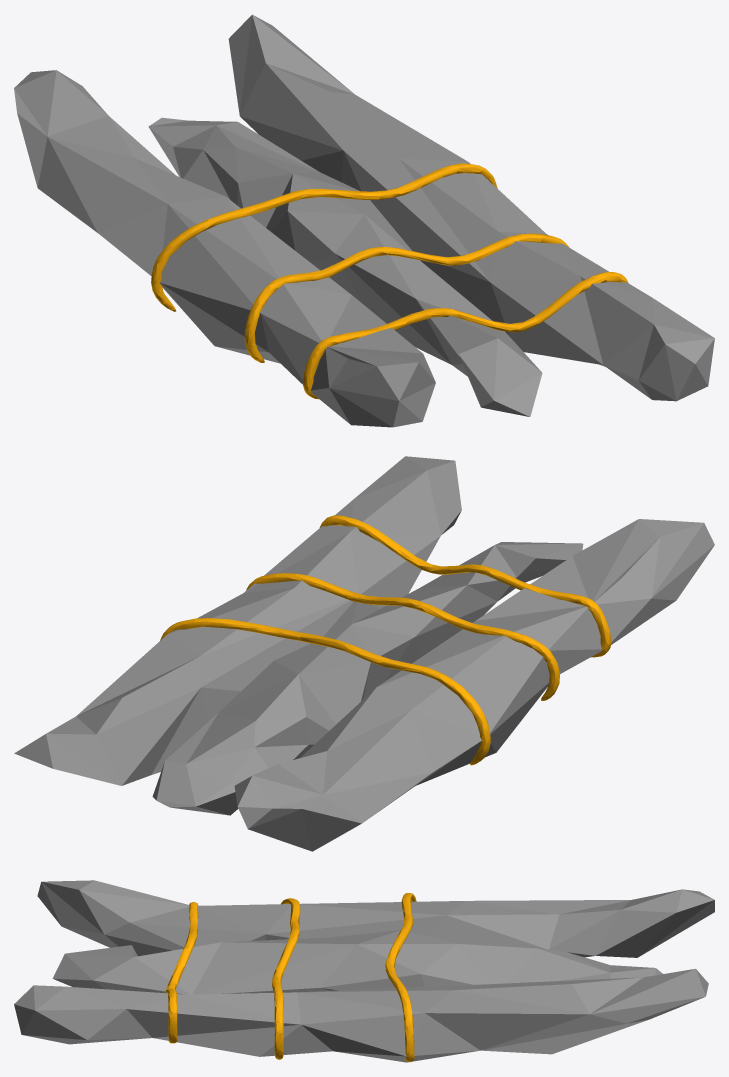
File: Raft.fbx
The picture shows the model from 3 angles, top to bottom: view 1: azimuth 30°, elevation 25°; view 2: azimuth 150°, elevation 25°; view 3: azimuth 270°, elevation 25°; orthographic projection. The views are drawn at different scales.
Parts seen in each view (by area): view 1: Cylin1, Cylinder00, Cylin, Box003, Box002, Box001; view 2: Cylinder00, Cylin1, Cylin, Box003, Box002, Box001; view 3: Cylin1, Cylinder00, Cylin, Box003, Box002, Box001.
Boxes of the visible parts, x1,y1,x2,y2 form: Cylin1: [228, 14, 714, 401]; Cylinder00: [14, 70, 435, 427]; Cylin: [148, 117, 542, 416]; Box003: [151, 163, 497, 311]; Box002: [244, 233, 569, 362]; Box001: [302, 272, 628, 399]; Cylinder00: [234, 519, 714, 851]; Cylin1: [14, 456, 461, 785]; Cylin: [152, 542, 583, 815]; Box003: [160, 618, 490, 765]; Box002: [246, 573, 559, 700]; Box001: [319, 515, 611, 657]; Cylin1: [14, 968, 708, 1062]; Cylinder00: [37, 880, 714, 957]; Cylin: [52, 930, 662, 994]; Box003: [385, 893, 416, 1062]; Box002: [272, 898, 300, 1059]; Box001: [165, 902, 198, 1043].
Bounding box in the file's own units: 2.58 × 0.8204 × 5.72.
